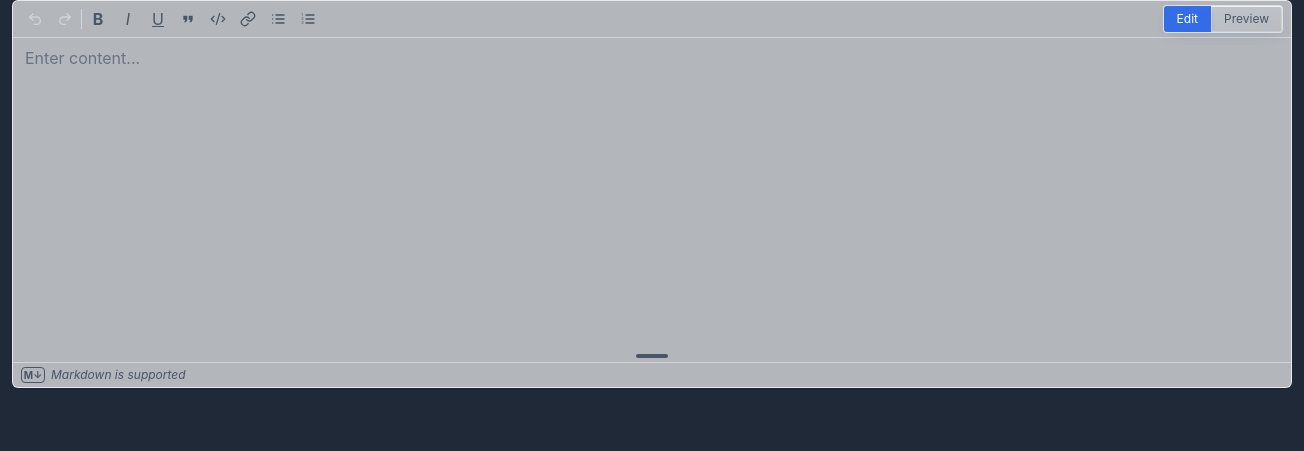
Test: MarkdownEditorField › word link suggestions › dismisses the suggestion without changing the value when Skip is clicked
Step 1. Type "`apple`" into the text box → {"x": 652, "y": 194}, box [13,38,1291,350]
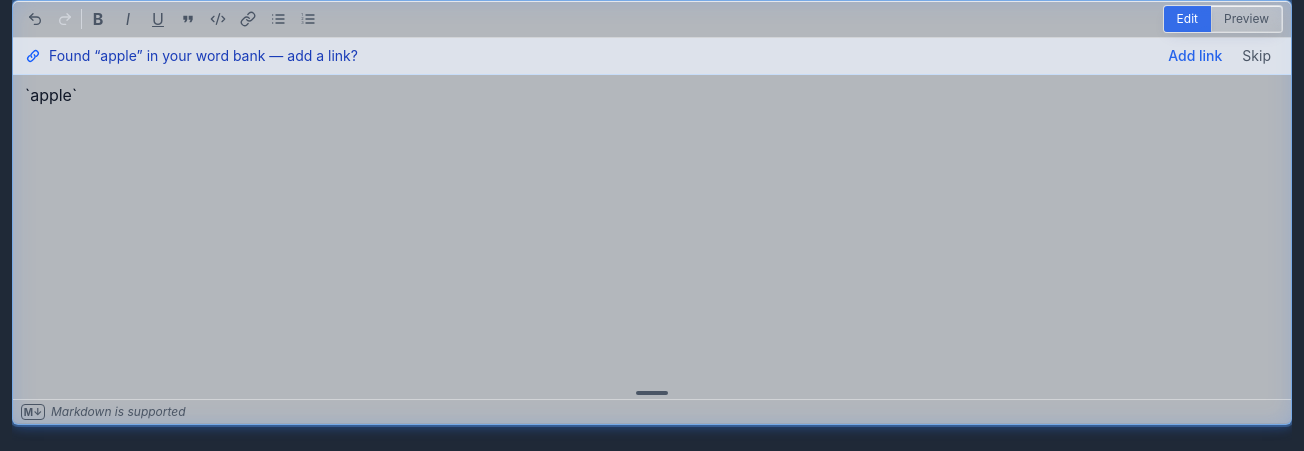
Step 2. Click the button "Skip" → {"x": 1257, "y": 56}, box [1234,44,1279,68]
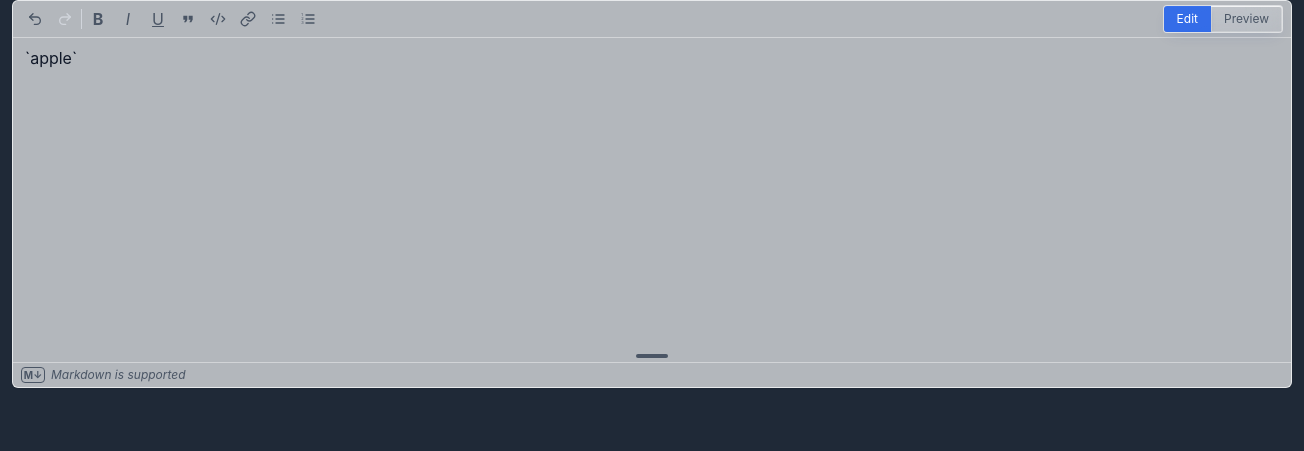
Now the button "Add link" is gone
